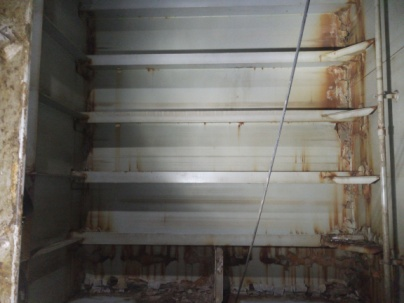corrosion: (80, 249, 216, 300), (253, 247, 377, 297), (314, 65, 368, 107), (324, 123, 367, 173), (323, 189, 370, 234), (314, 7, 364, 48), (80, 186, 114, 231), (106, 133, 131, 175), (75, 125, 95, 167), (110, 73, 126, 112), (297, 154, 312, 172)
